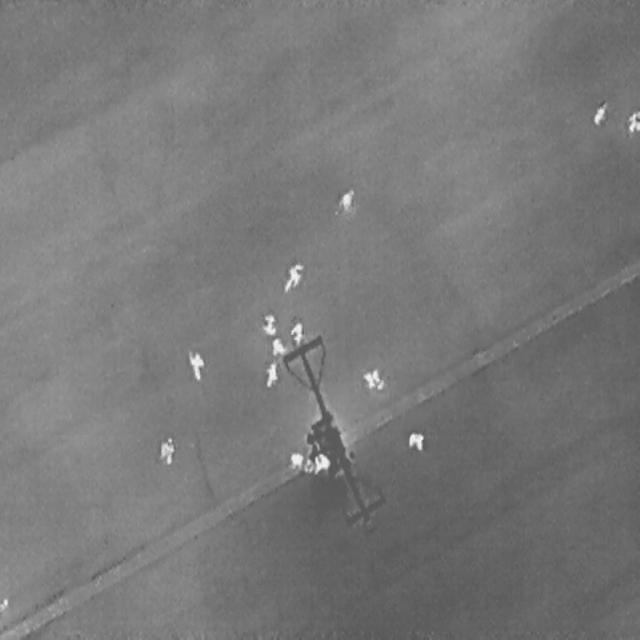Person: (276, 256, 305, 296), (359, 360, 387, 394), (333, 182, 358, 218), (185, 343, 207, 382), (261, 357, 281, 392), (589, 96, 611, 125), (158, 434, 175, 464), (289, 319, 303, 345), (314, 453, 329, 475), (406, 430, 422, 450), (625, 109, 639, 131), (289, 450, 302, 469), (270, 339, 284, 356), (263, 314, 274, 334)
